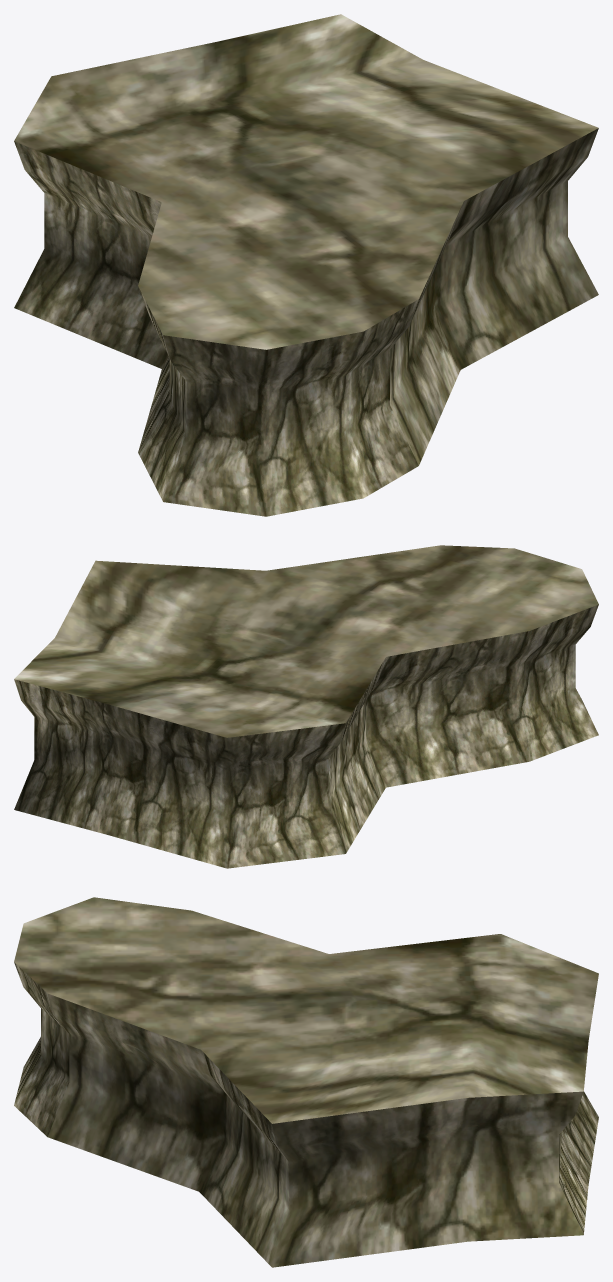
File: CB_NEWPLAYSURFACE_CB_PLAYSURFACE154.fbx
3 views of the same model, one above another, from view 1: azimuth 30°, elevation 25°; view 2: azimuth 150°, elevation 25°; view 3: azimuth 270°, elevation 25° (orthographic). The views are drawn at different scales.
Parts seen in each view (by area): view 1: CB_NEWPLAYSURFACE_CB_PLAYSURFACE154; view 2: CB_NEWPLAYSURFACE_CB_PLAYSURFACE154; view 3: CB_NEWPLAYSURFACE_CB_PLAYSURFACE154.
Part boxes in pixels (x1=…): CB_NEWPLAYSURFACE_CB_PLAYSURFACE154: x1=14, y1=14, x2=598, y2=516; CB_NEWPLAYSURFACE_CB_PLAYSURFACE154: x1=14, y1=545, x2=598, y2=868; CB_NEWPLAYSURFACE_CB_PLAYSURFACE154: x1=14, y1=897, x2=598, y2=1267.
Size of the model in its own units: 118367 by 35021 by 129110.
2 materials, 2 textured.
